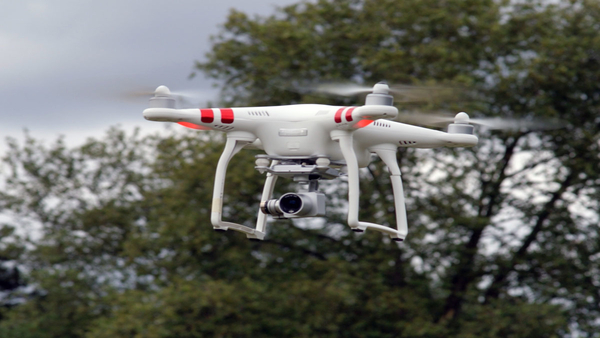drone: (138, 78, 520, 244)
